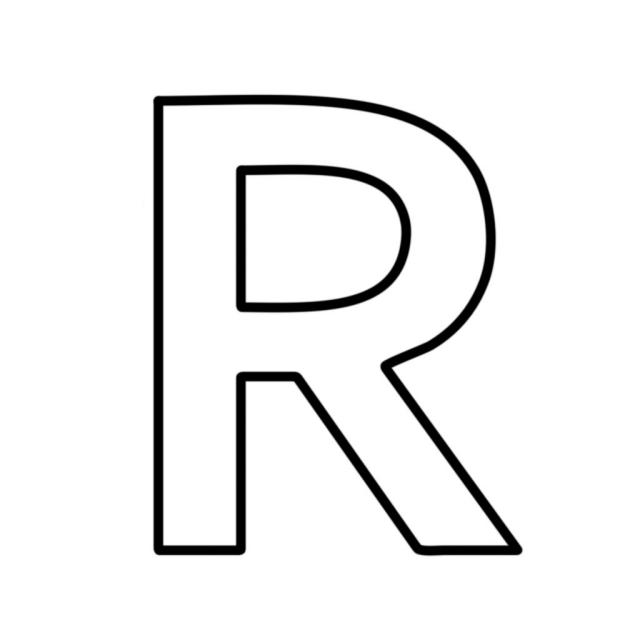R: (90, 58, 566, 611)
